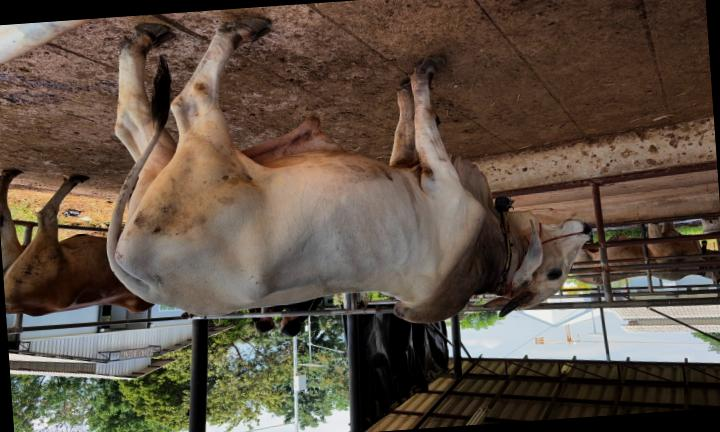Brahman: (107, 18, 589, 322)
